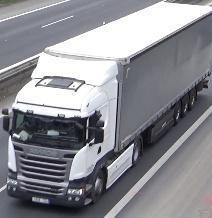Truck: (4, 2, 210, 209)
